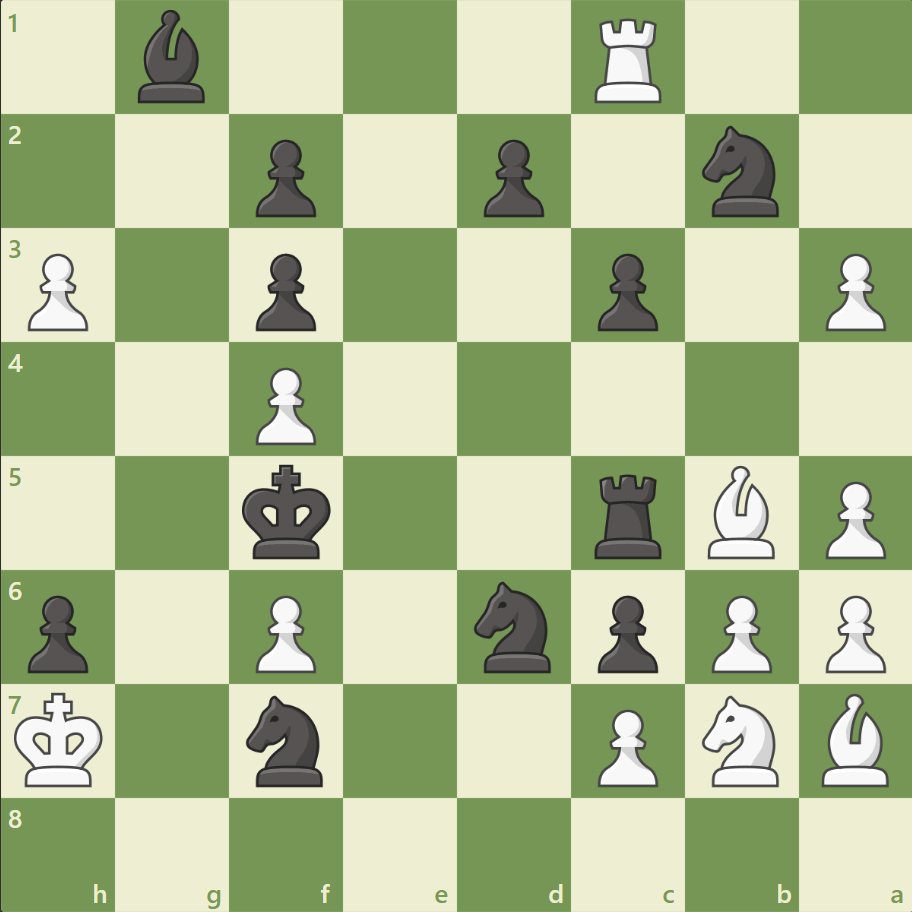B: (812, 687, 896, 790), (698, 460, 782, 563)
K: (11, 685, 111, 793)
N: (692, 688, 789, 791)
P: (701, 586, 776, 677), (247, 586, 322, 677), (247, 359, 322, 450), (20, 246, 95, 337), (588, 700, 662, 791), (815, 586, 889, 677), (815, 473, 889, 564), (815, 246, 889, 337)
R: (587, 12, 670, 109)
b: (131, 6, 215, 109)
k: (238, 458, 338, 566)
n: (238, 688, 335, 791), (465, 575, 562, 677), (692, 121, 789, 223)
p: (20, 586, 95, 677), (247, 246, 322, 337), (474, 132, 549, 223), (247, 132, 322, 223), (588, 586, 662, 677), (588, 246, 662, 337)
r: (587, 466, 670, 563)
